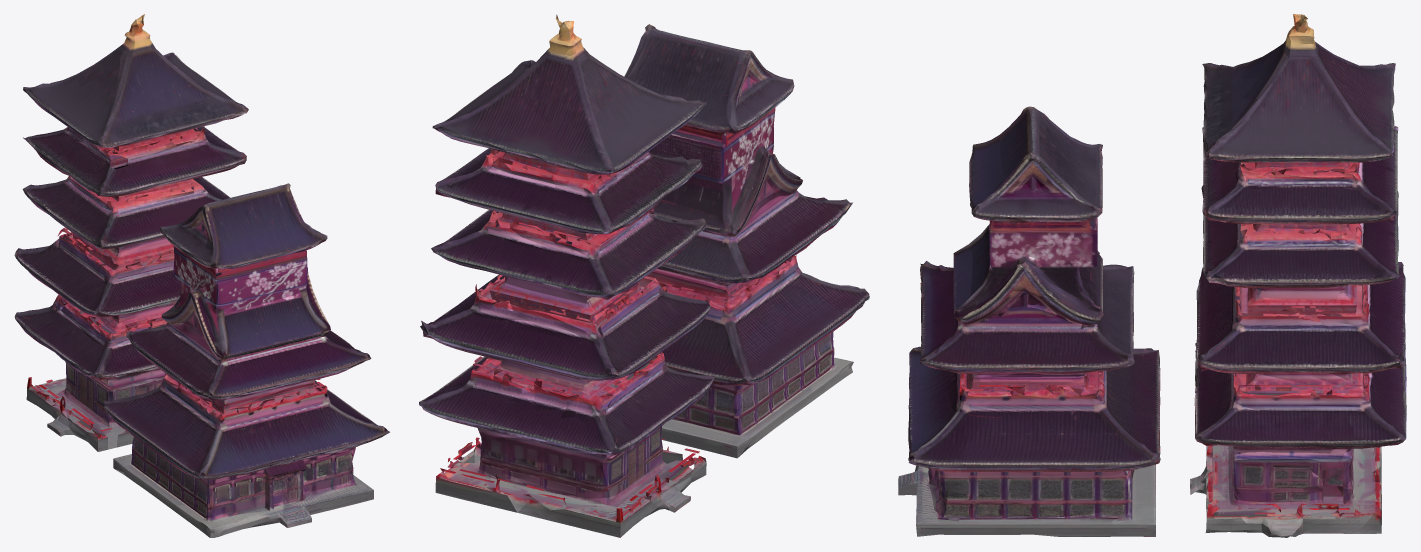
Rendered from cyber_japan_buildings_1001231821_texture.glb.
3 views of the same model, side by side, from view 1: azimuth 30°, elevation 25°; view 2: azimuth 150°, elevation 25°; view 3: azimuth 270°, elevation 25° (orthographic). The views are drawn at different scales.
Visible parts, largest first — view 1: Mesh0; view 2: Mesh0; view 3: Mesh0.
Boxes of the visible parts, x1,y1,x2,y2 form: Mesh0: (14,14,389,537); Mesh0: (419,14,869,537); Mesh0: (898,14,1406,537).
Size of the model in its own units: 0.9733 by 1.91 by 1.84.
Materials: 1 (1 with a texture image).
